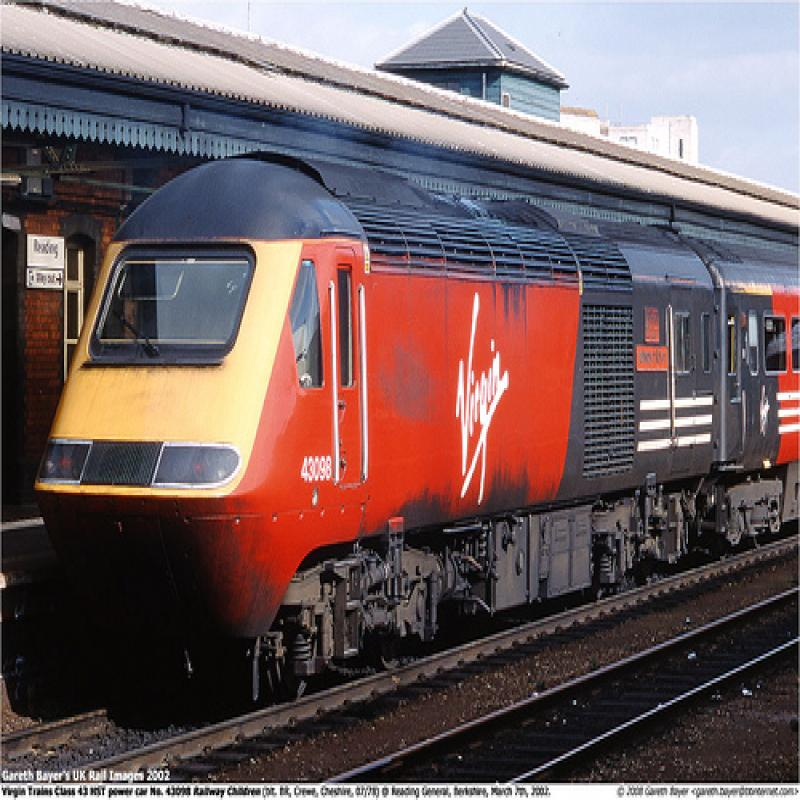train: (36, 152, 800, 711)
